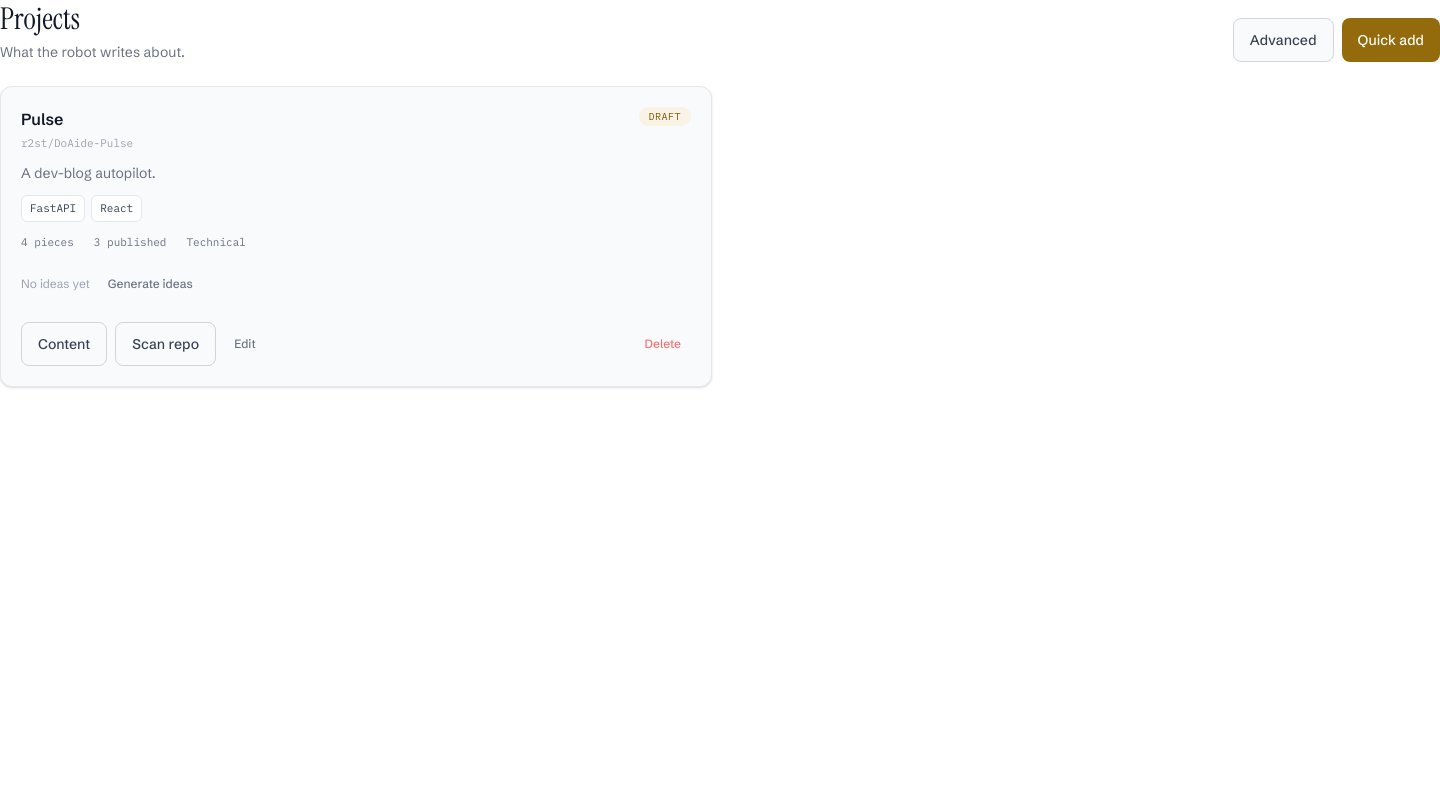
Scenario: the add/edit dialog › pre-fills from an existing project when editing
Expected: the heading "Pulse" is shown, [21,108,64,128]
Click the button "Edit" at (245, 344), box [224,322,266,366]
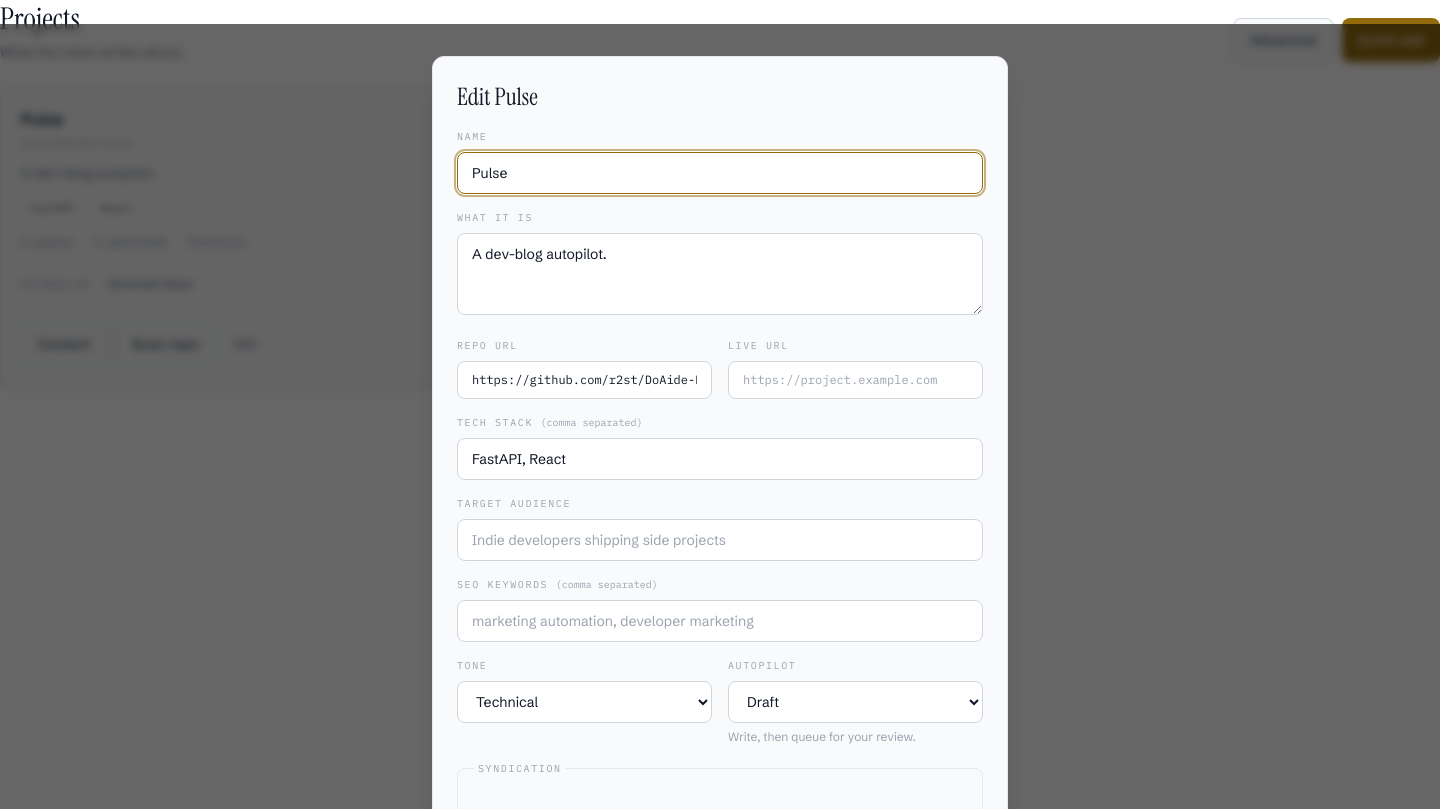
Result: the heading "Edit Pulse" is shown at [457,81,538,112]
Result: the field labelled "Name" holds "Pulse" at [457,152,983,194]
Result: the field labelled "Tech stack (comma separated)" holds "FastAPI, React" at [457,438,983,480]
